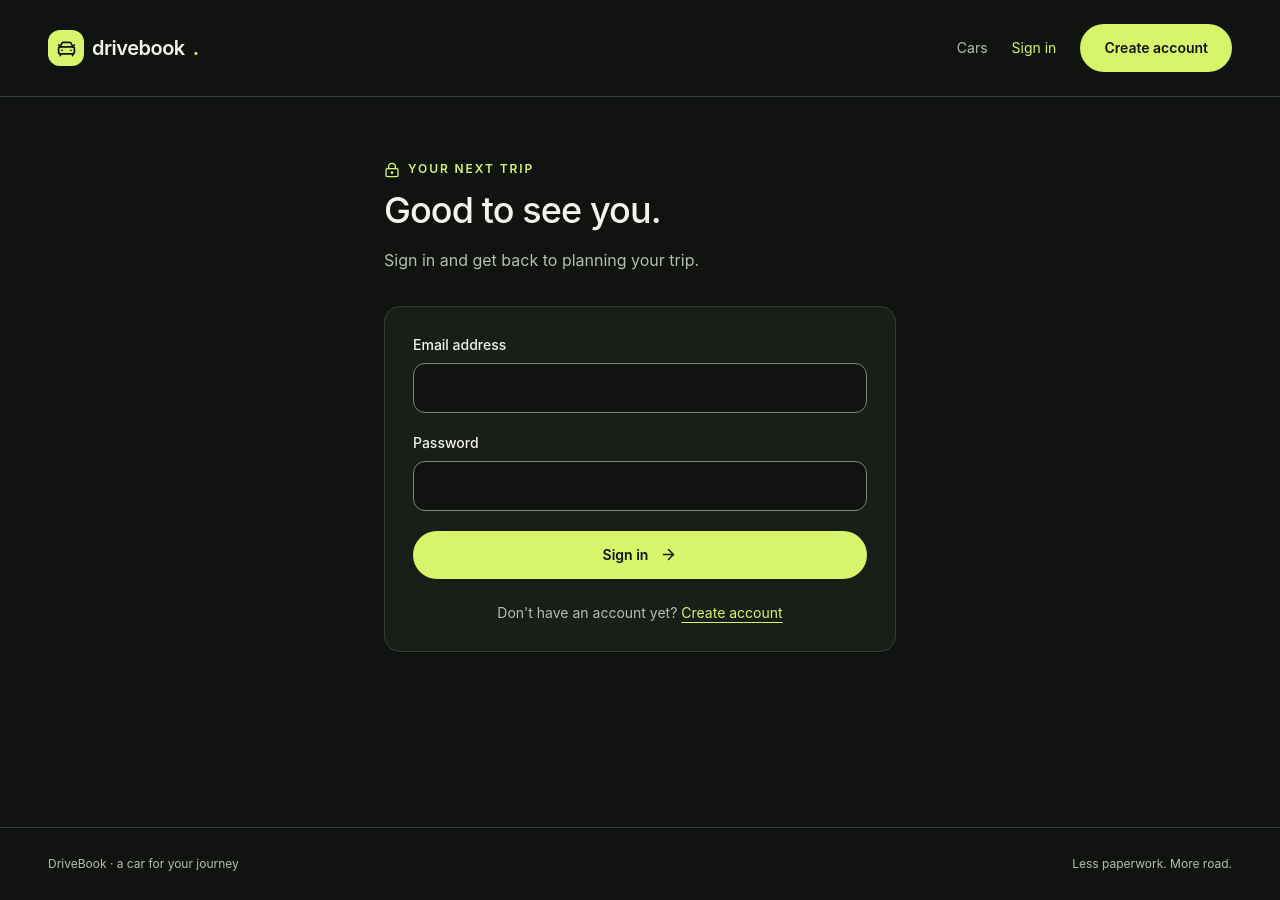
Scenario: login › shows the user in the header and goes to the car catalog after signing in
The width and height of the screenshot is (1280, 900).
In the field labelled "Email address": (640, 388) [413,363,867,413], type "demo@drivebook.test"
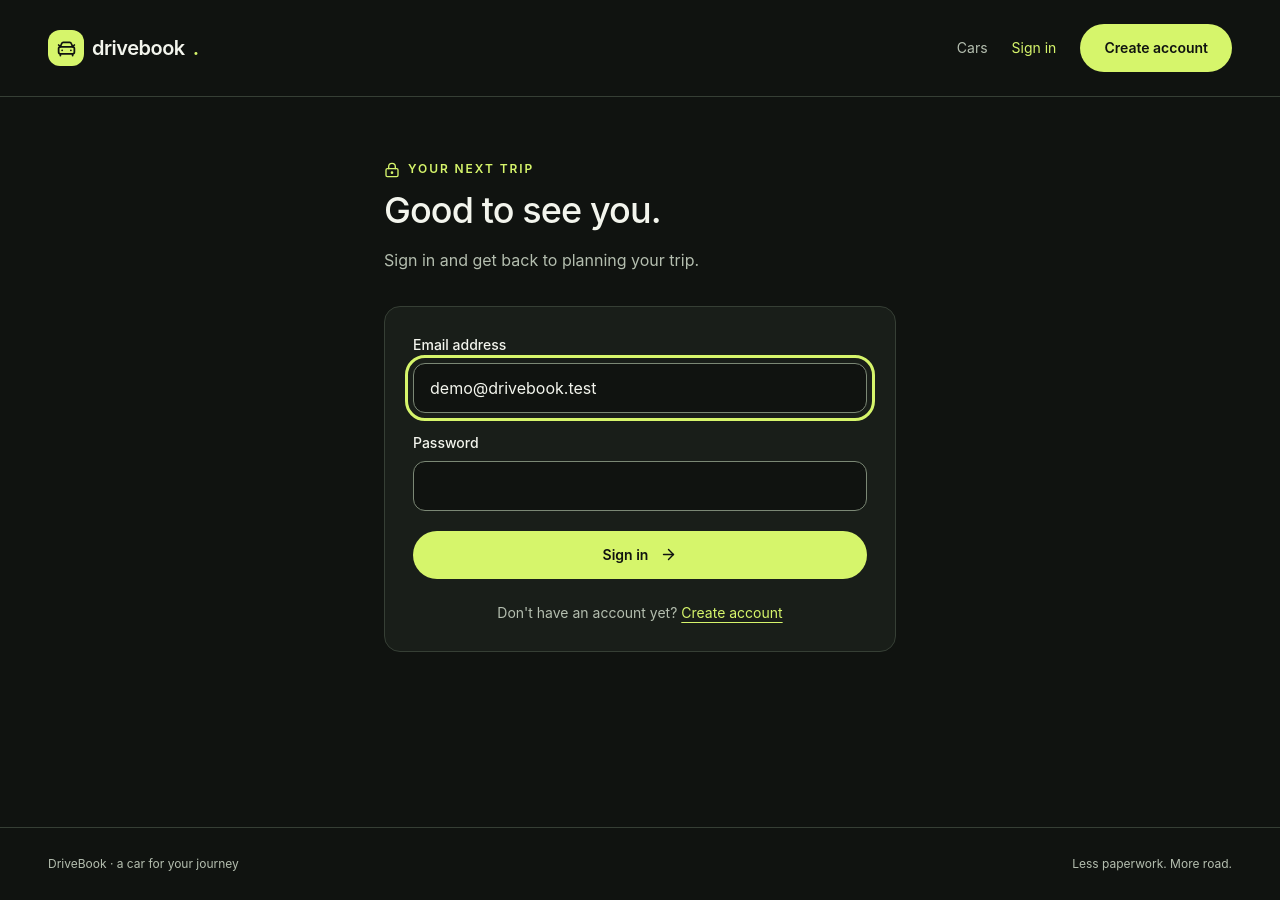
In the password field labelled "Password": (640, 486) [413,461,867,511], type "demo-password-123"
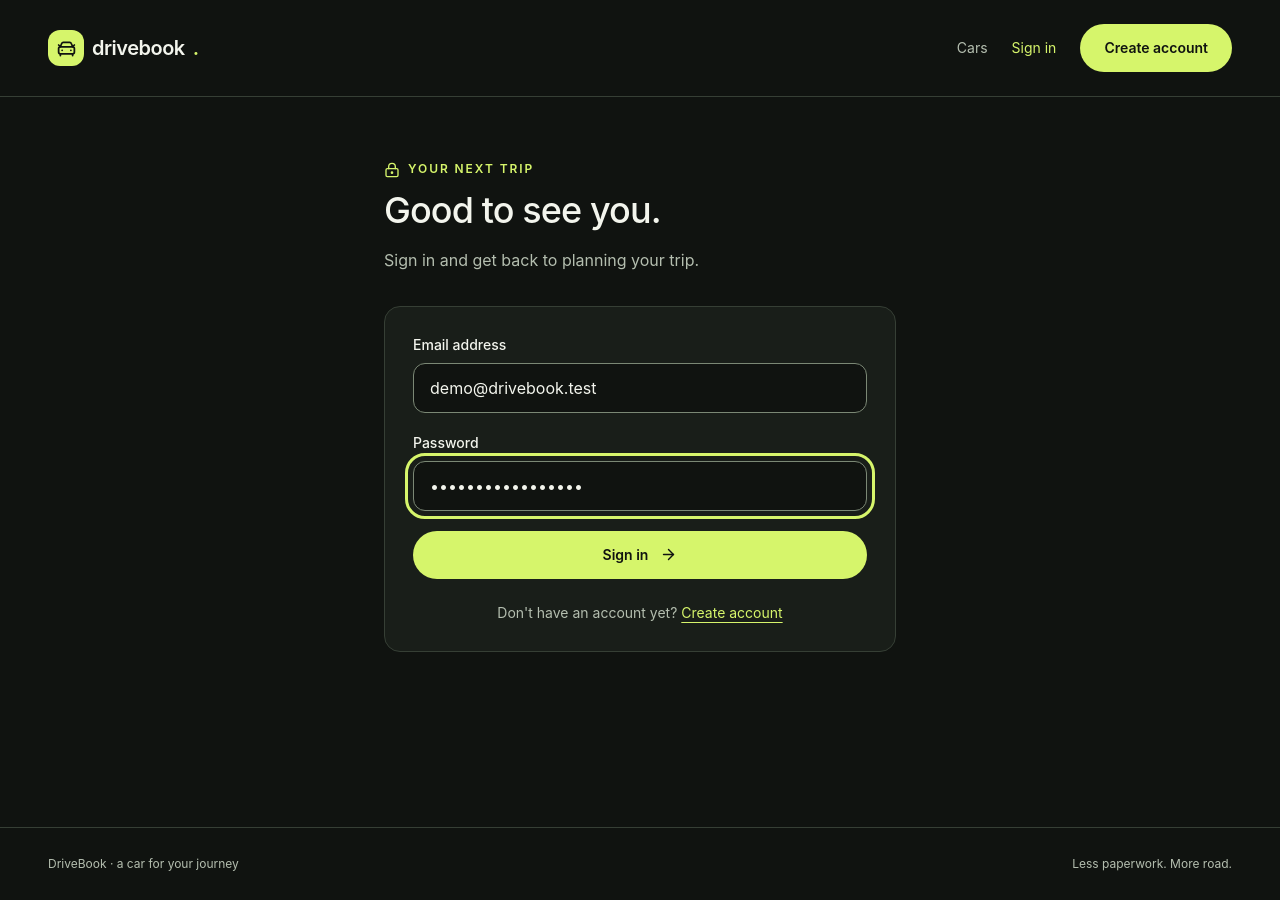
Click the button "Sign in": (640, 555) [413,531,867,579]
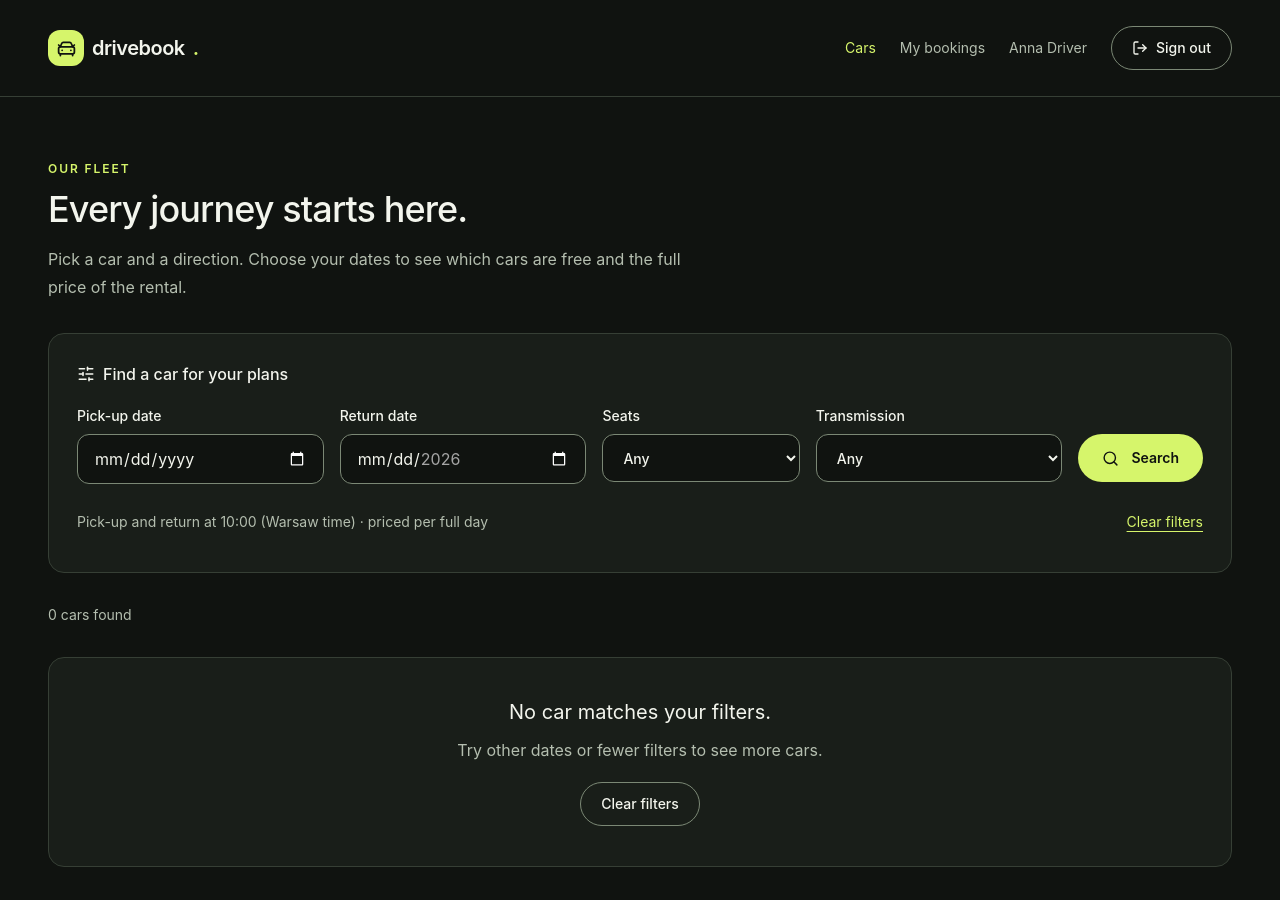
Check: the text "Anna Driver" is shown, box [1009,38,1087,58]
Check: the button "Sign out" is shown, box [1111,26,1232,70]
